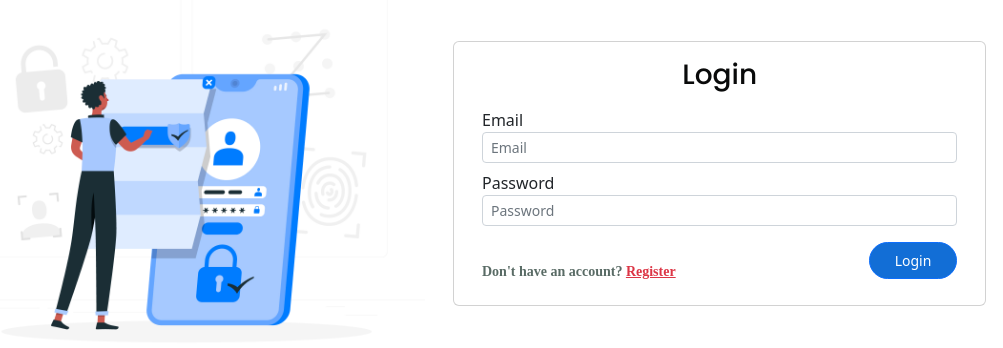
Test case: sends the email and password to the student login endpoint
Type "anna@example.com" into the field with placeholder "Email" at [720, 148], box [482,132,957,163]
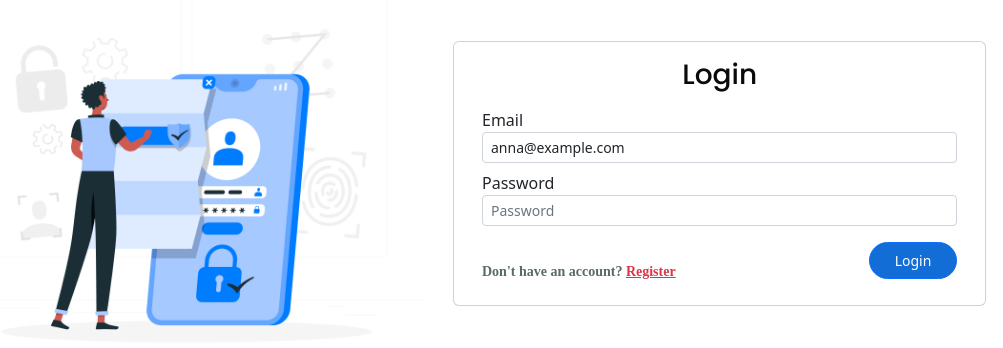
Type "Secret123!" into the password field with placeholder "Password" at [720, 210], box [482,195,957,226]
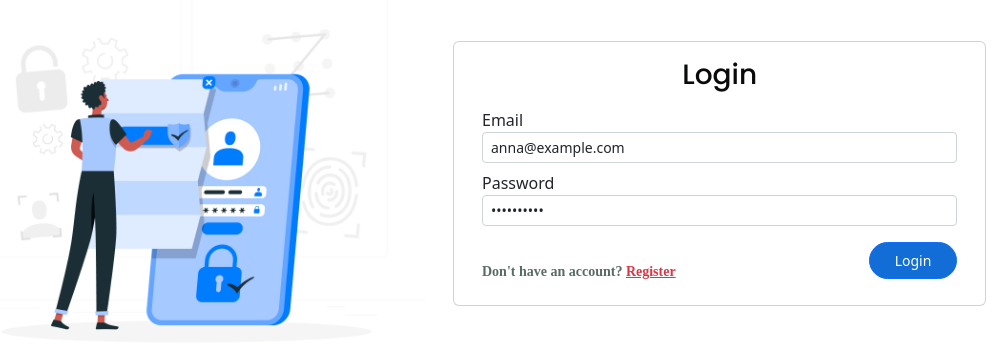
Click the button "Login" at [913, 260], box [869,242,957,279]
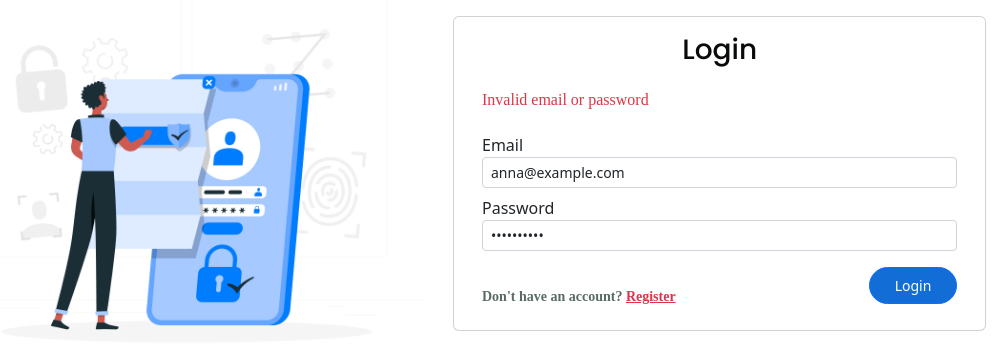
Expected: the text "Invalid email or password" is shown, [482,92,649,108]
